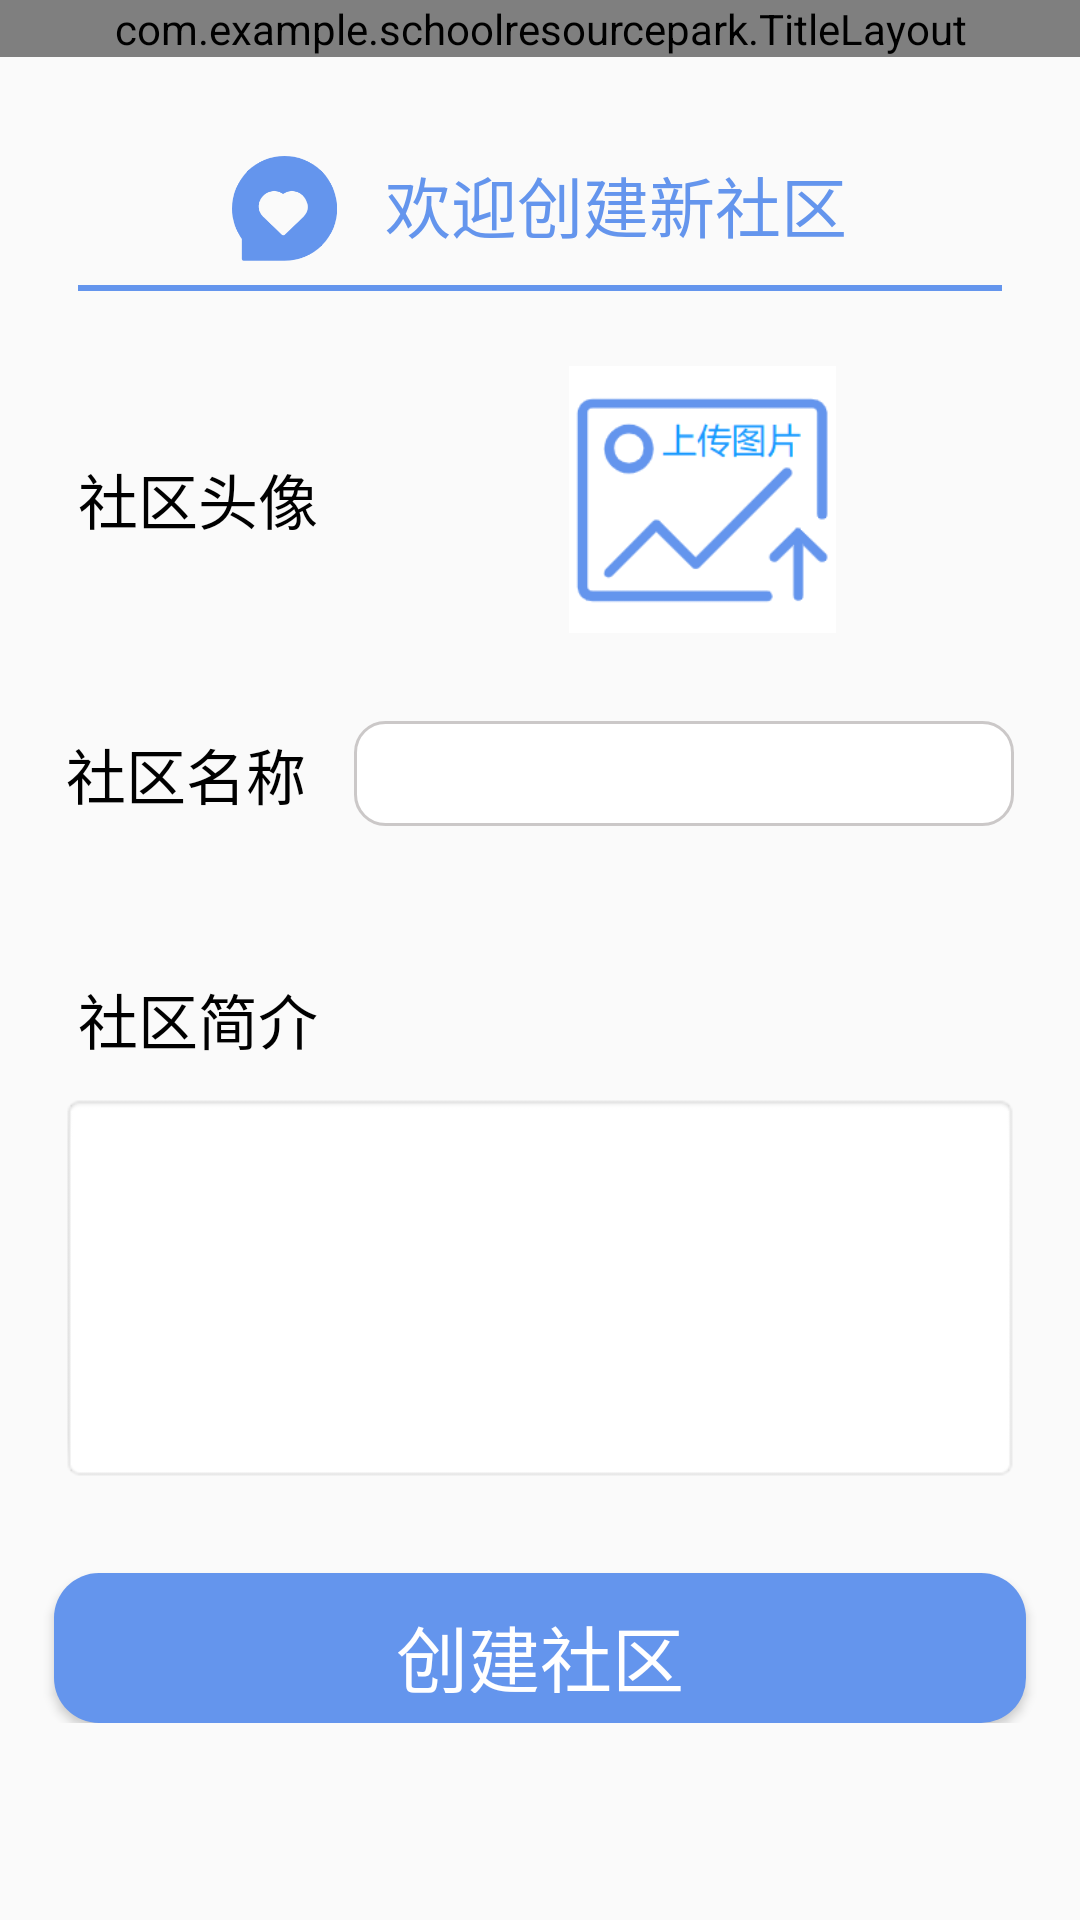

Where to tap for icons on this 1080px x 1920px app screen, as (x,y):
create community: (284,208)
